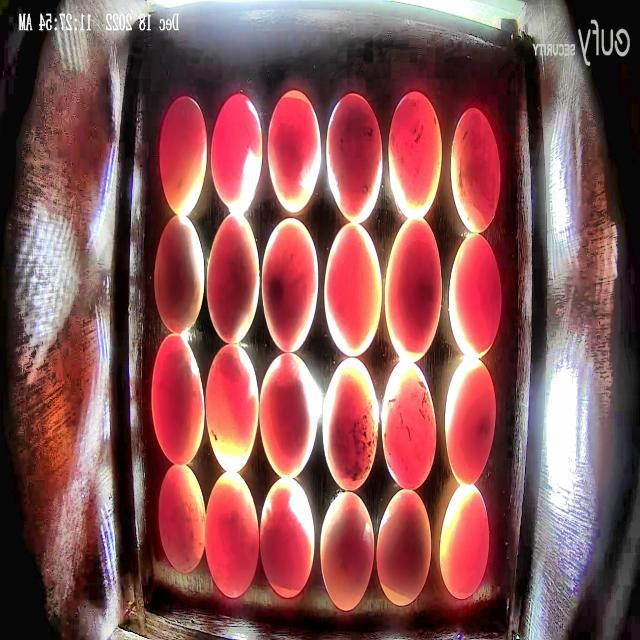FE: (384, 217, 442, 363), (324, 222, 383, 358), (262, 217, 320, 354), (326, 92, 384, 225), (322, 355, 378, 492), (259, 352, 317, 478), (151, 333, 205, 466), (204, 471, 260, 599), (207, 211, 260, 345), (205, 343, 259, 474), (382, 361, 437, 489), (388, 90, 442, 219), (448, 233, 502, 359), (376, 488, 432, 607), (267, 90, 321, 213), (320, 490, 375, 610), (260, 477, 314, 599), (450, 106, 501, 234), (444, 358, 495, 486), (210, 92, 263, 212), (154, 216, 206, 334), (439, 484, 490, 600), (159, 95, 207, 218), (159, 465, 205, 575)
